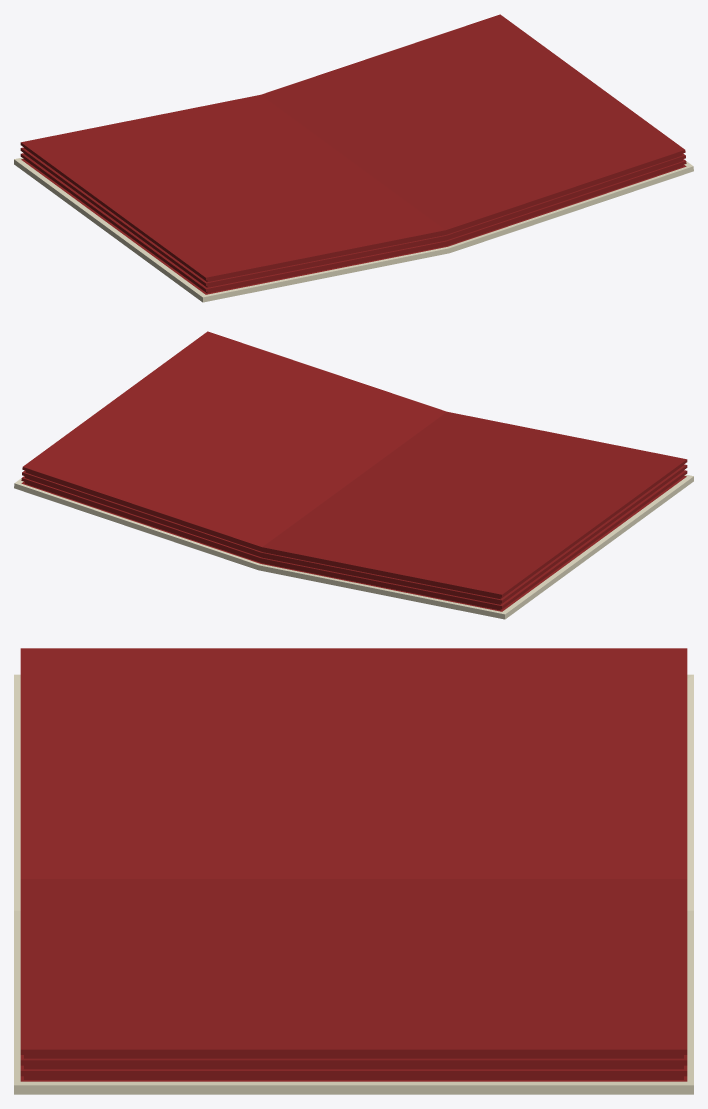
The model's file is Warden Book.fbx.
3 views of the same model, one above another, from view 1: azimuth 30°, elevation 25°; view 2: azimuth 150°, elevation 25°; view 3: azimuth 270°, elevation 25° (orthographic). The views are drawn at different scales.
Parts seen in each view (by area): view 1: Cube; view 2: Cube; view 3: Cube.
Part boxes in pixels (left/top/right/bottom): Cube: left=14, top=14, right=693, bottom=302; Cube: left=14, top=331, right=693, bottom=619; Cube: left=14, top=648, right=693, bottom=1094.
Size of the model in its own units: 601 by 51.52 by 400.
